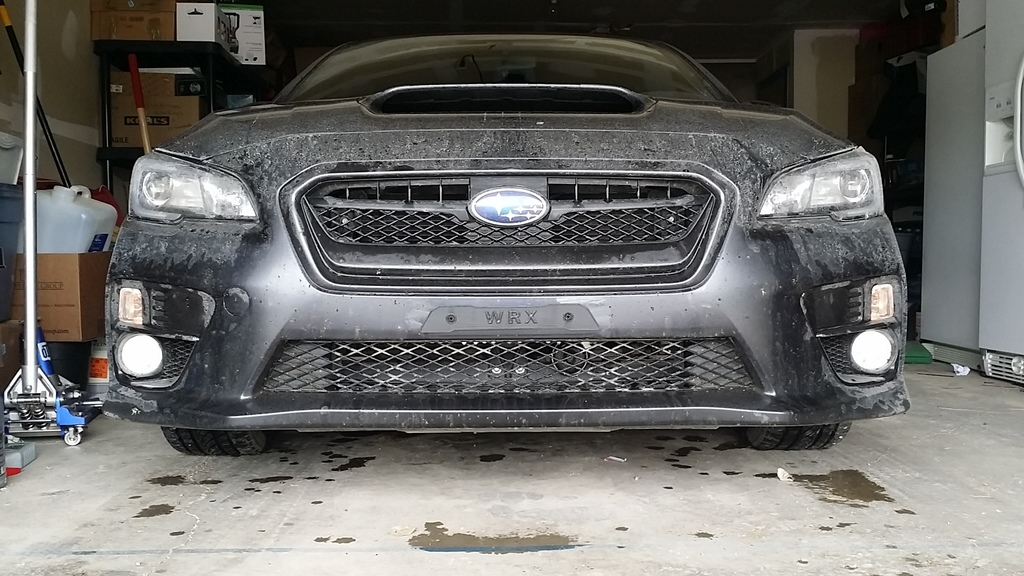mobil: (98, 23, 921, 459)
